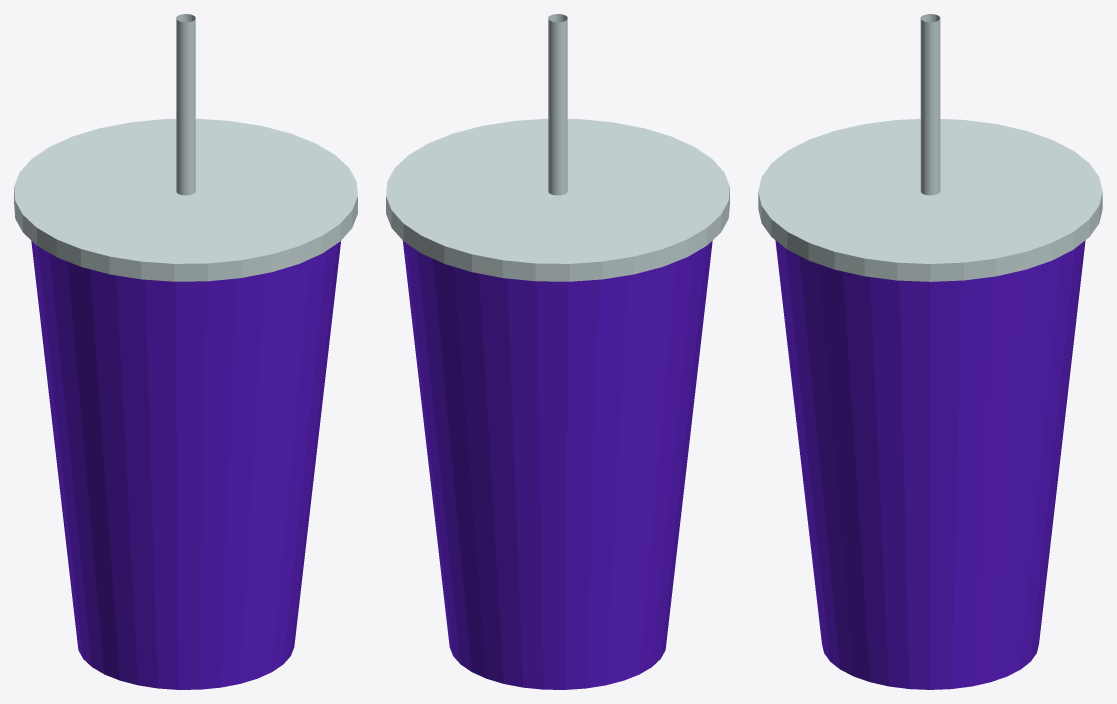
File: SodaChica.glb
The picture shows the model from 3 angles, left to right: view 1: azimuth 30°, elevation 25°; view 2: azimuth 150°, elevation 25°; view 3: azimuth 270°, elevation 25°; orthographic projection.
Visible parts, largest first — view 1: Cylinder, Cylinder.001, Cylinder.002; view 2: Cylinder, Cylinder.001, Cylinder.002; view 3: Cylinder, Cylinder.001, Cylinder.002.
Part boxes in pixels (bbox=[...]): Cylinder: bbox=[31, 241, 340, 689]; Cylinder.001: bbox=[14, 118, 357, 281]; Cylinder.002: bbox=[176, 14, 195, 195]; Cylinder: bbox=[403, 241, 712, 689]; Cylinder.001: bbox=[386, 118, 729, 281]; Cylinder.002: bbox=[548, 14, 567, 195]; Cylinder: bbox=[775, 240, 1085, 689]; Cylinder.001: bbox=[758, 119, 1102, 281]; Cylinder.002: bbox=[920, 14, 940, 195].
Bounding box in the file's own units: 1.4 × 2.81 × 1.4.
